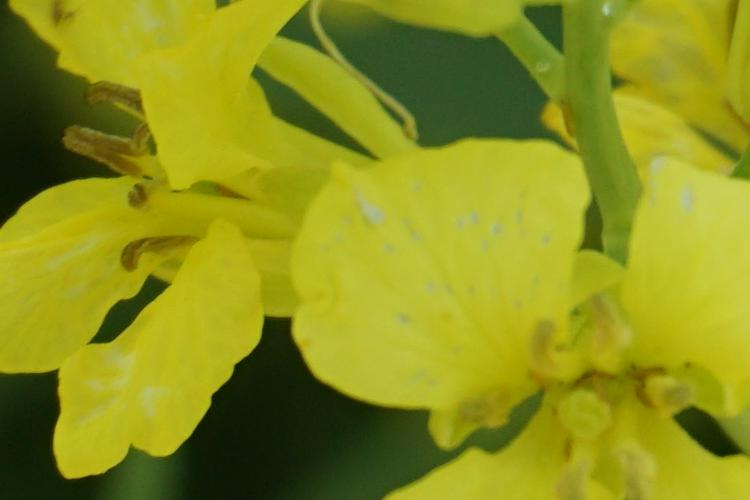yellow: (24, 29, 381, 456), (368, 145, 746, 496)
